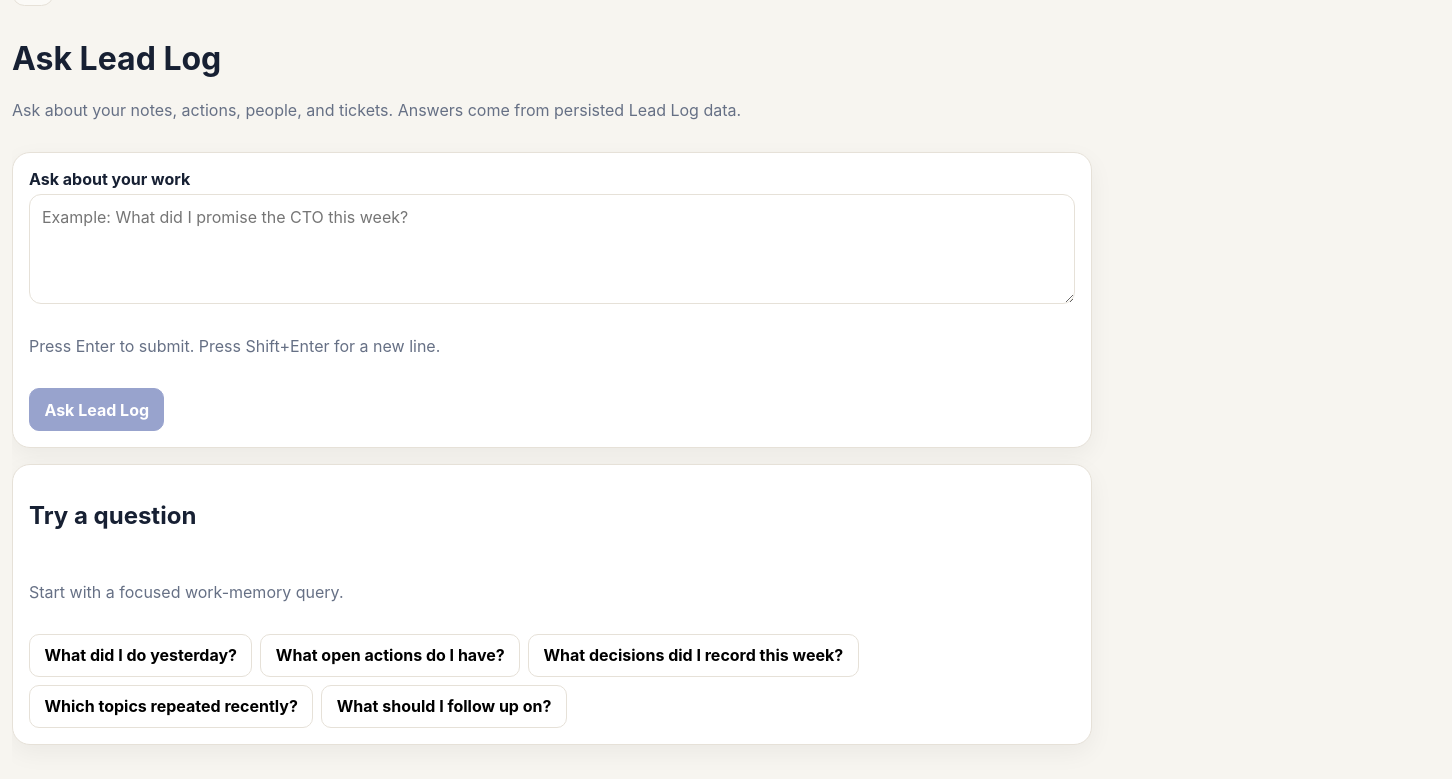
Test: AskPage › renders grounded answer with empty sources and no fabricated links
In the text box labelled "Ask about your work": x=552, y=249 [29,194,1075,304], type "Question"
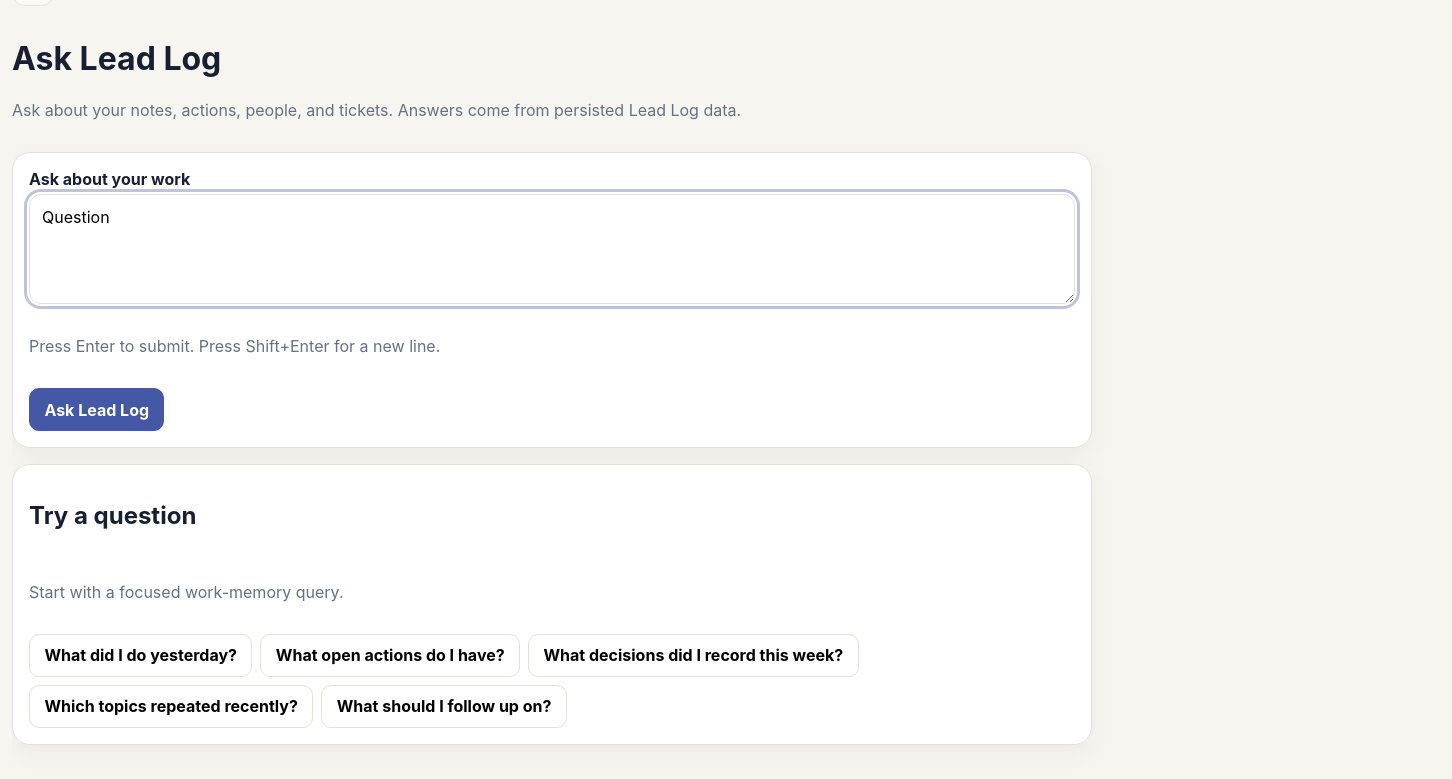
Click the button "Ask Lead Log": x=97, y=410 [29,388,164,431]
(page scrolled)
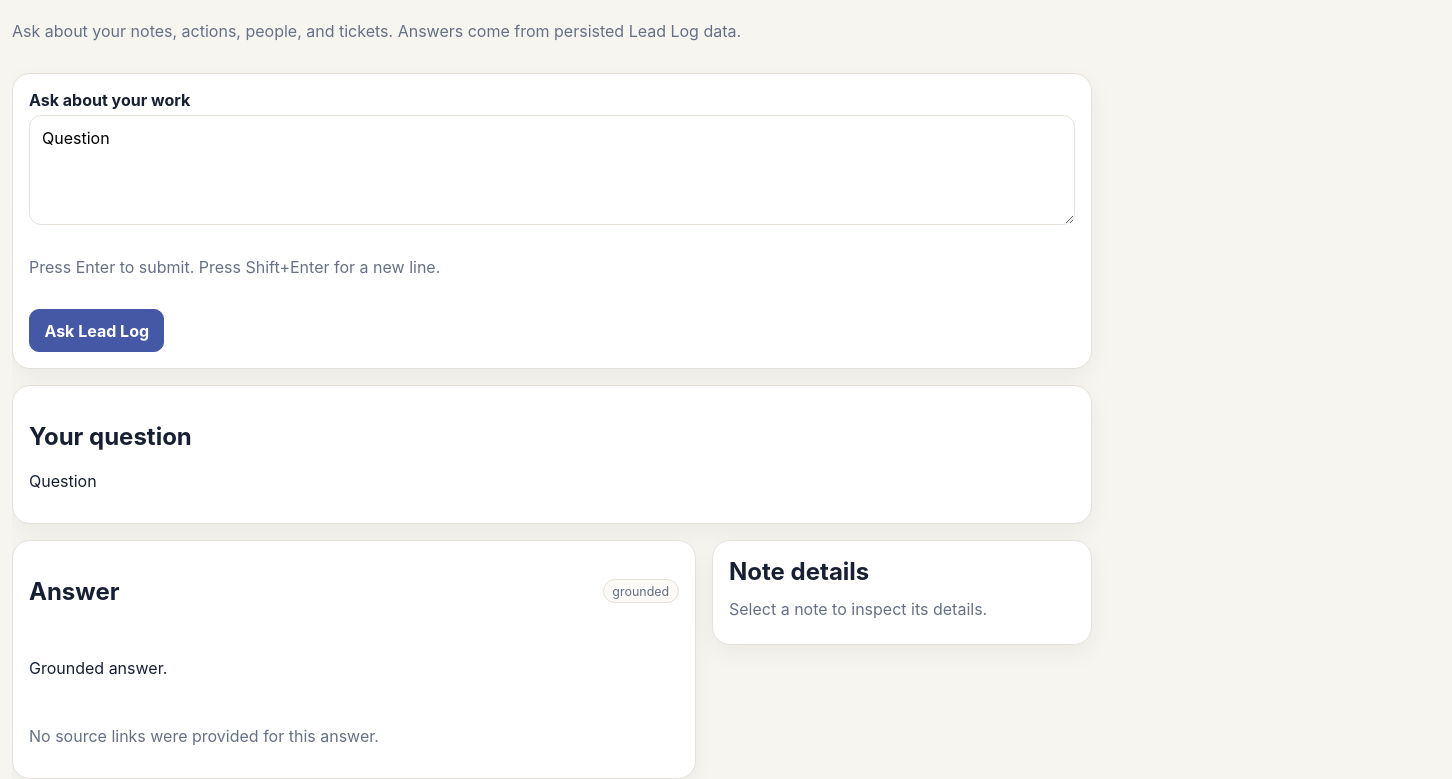
Result: the text "Grounded answer." is shown at [29,658,167,678]
Result: the text "No source links were provided for this answer." is shown at [29,726,379,746]
